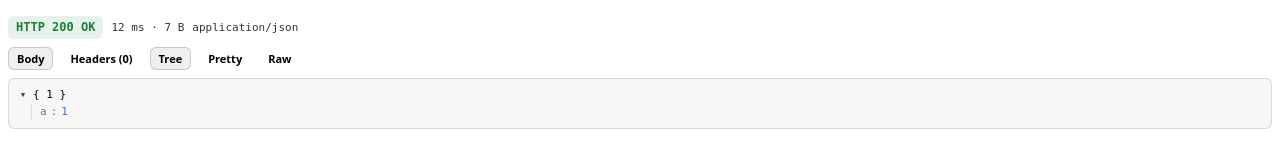
Test: ResponseView rich bodies › switches back to the tree from pretty mode
Click the button "Pretty": coordinates (225, 58) x1=199 y1=47 x2=251 y2=70
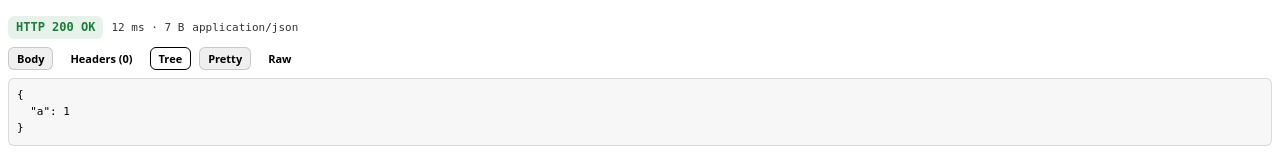
Click the button "Tree": coordinates (170, 58) x1=150 y1=47 x2=191 y2=70
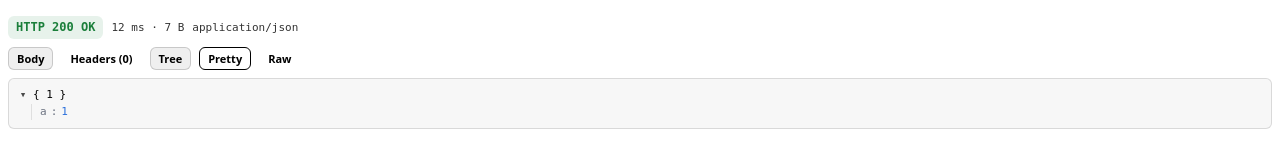
Expected: the text "a" is shown, x1=40 y1=104 x2=47 y2=120
Expected: the element showing "▾ { 1 } a : 1" is shown, x1=8 y1=78 x2=1272 y2=129
